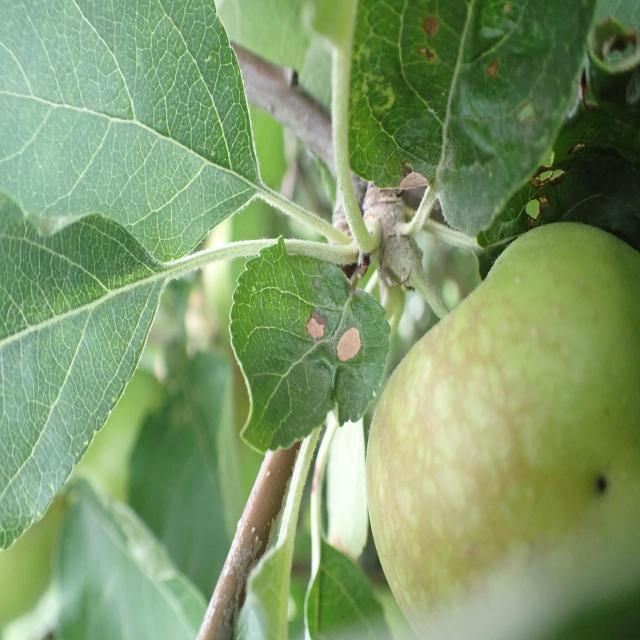frog-eye-leaf-spot: (347, 0, 598, 237), (228, 234, 392, 455)
